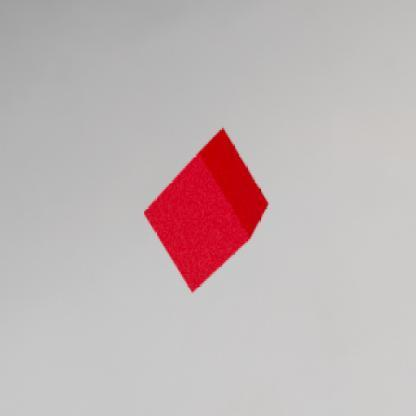red_cube: (142, 125, 270, 293)
